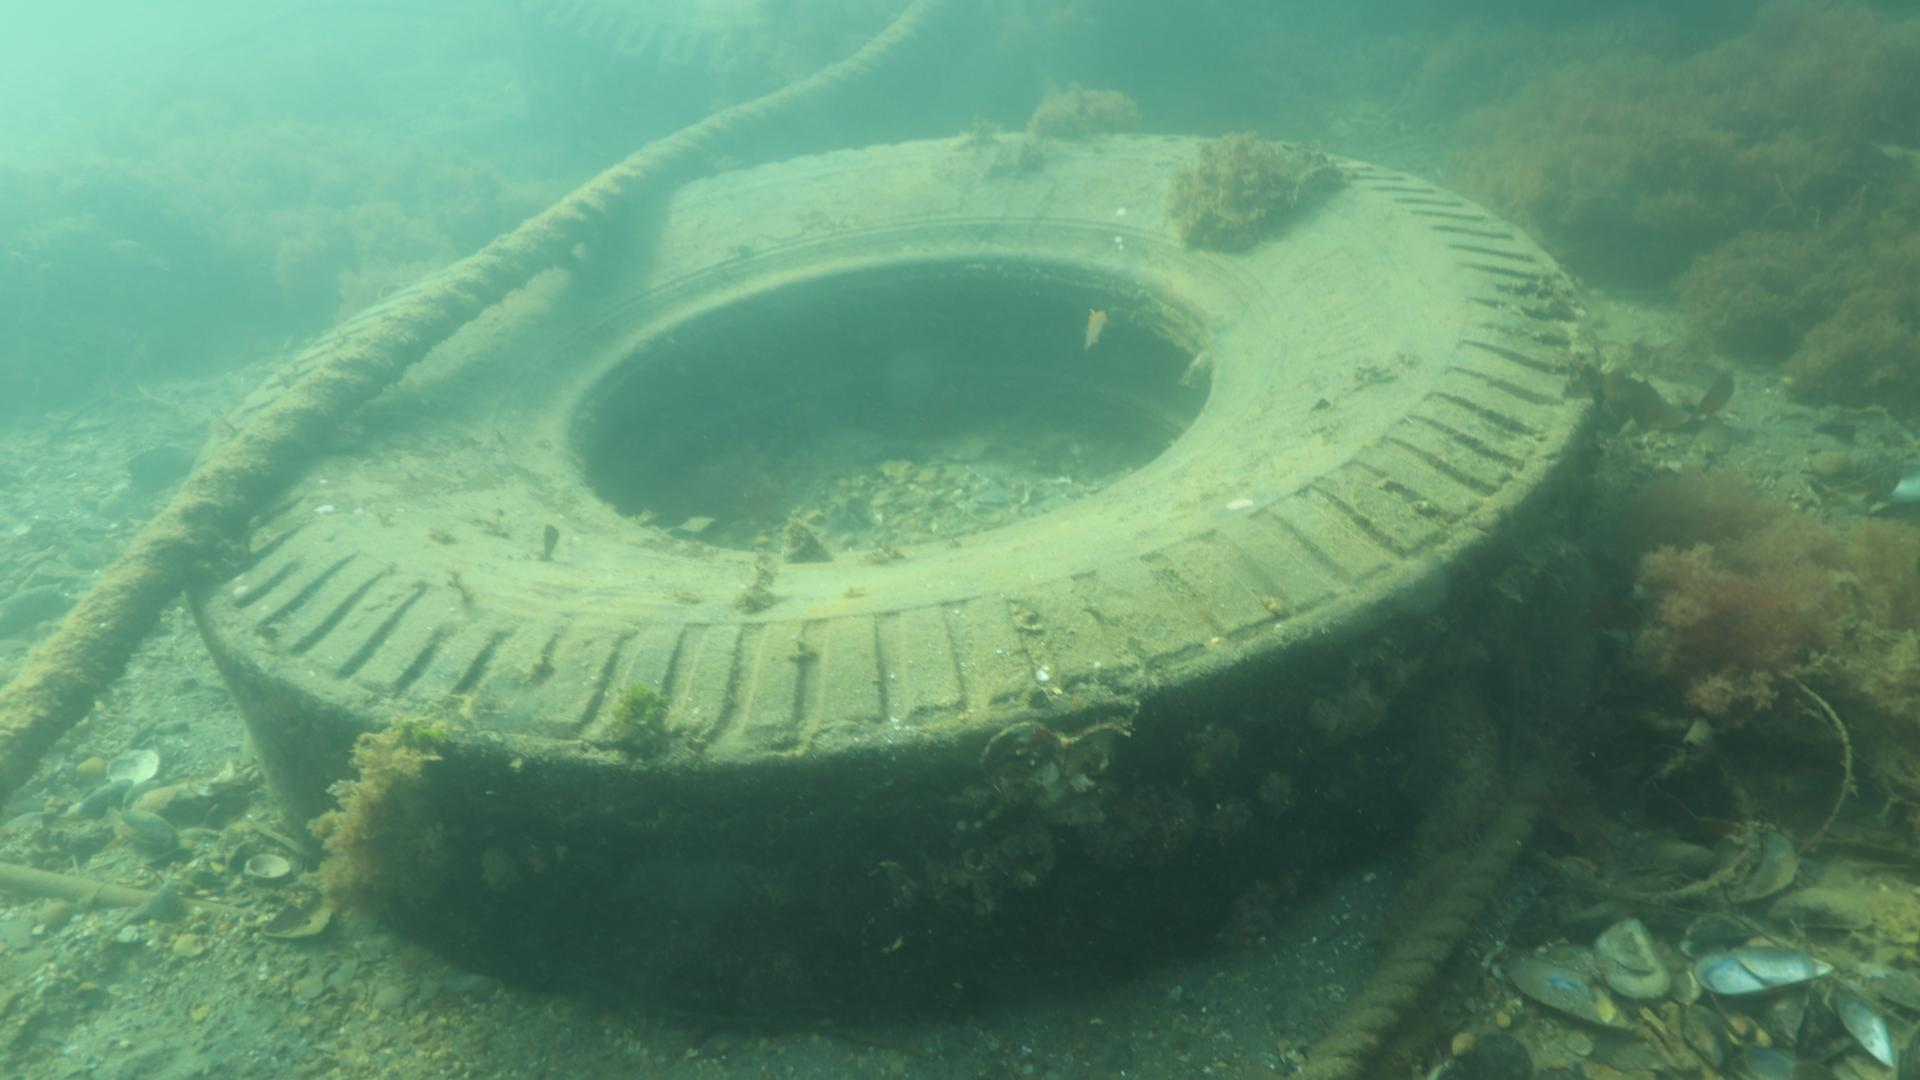rope: (0, 0, 942, 799), (1288, 798, 1535, 1080)
tire: (181, 128, 1602, 1033)
